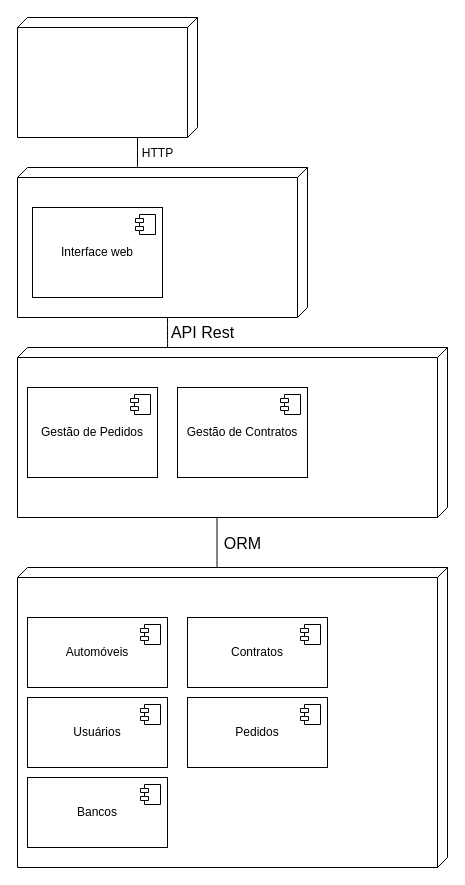
Some shapes in this 465 by 885 pixel diagram are drawn without their labels. The shapes that lost their labels are listed below. From the top down, each one's box as (x1, y1, x2, y2) in pixels, then its label:
(16, 16, 198, 138): App web
(16, 166, 308, 318): Serviço web
(16, 346, 448, 518): Aplicação
(16, 566, 448, 868): Banco de Dados
